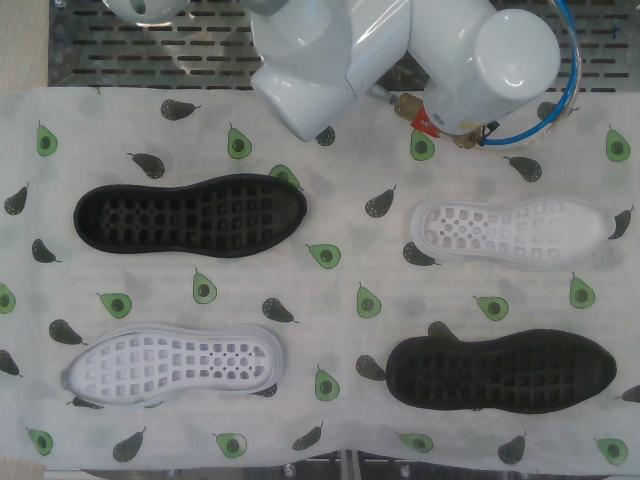shoes: (78, 178, 305, 251), (394, 338, 615, 410), (62, 331, 273, 405), (424, 198, 614, 264)
